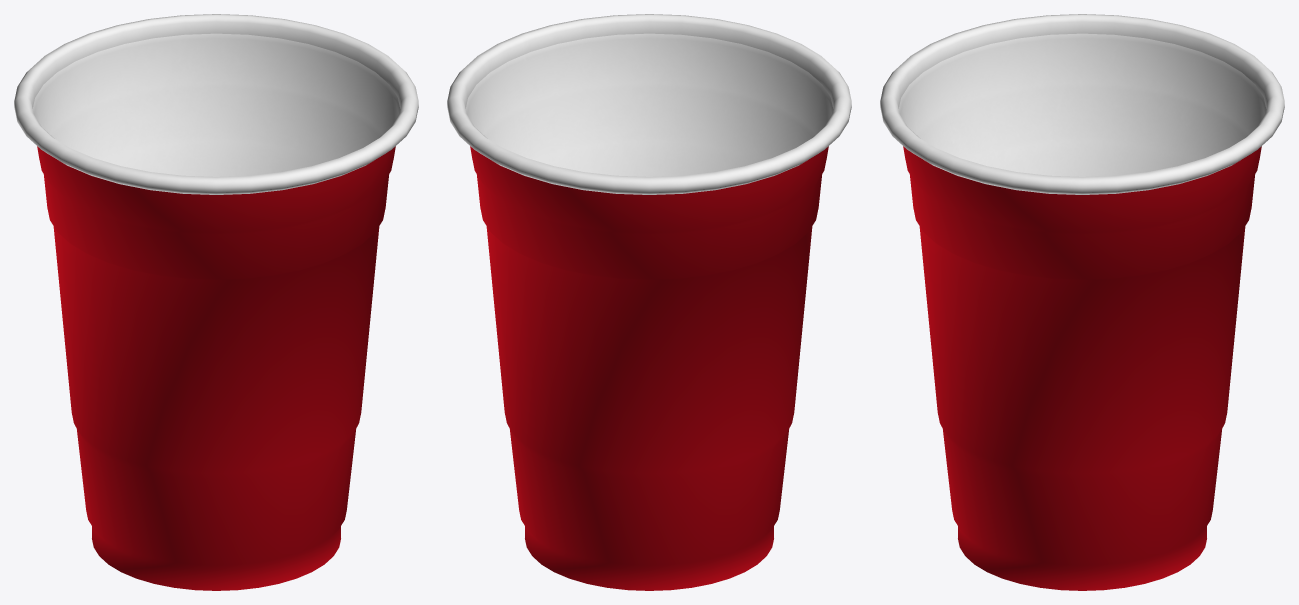
The model's file is RedCup.fbx.
3 renders of one model, left to right at view 1: azimuth 30°, elevation 25°; view 2: azimuth 150°, elevation 25°; view 3: azimuth 270°, elevation 25°, orthographic.
Parts seen in each view (by area): view 1: RedCup; view 2: RedCup; view 3: RedCup.
Part boxes in pixels (box(x1,y1,x2,y2)): RedCup: box(14, 14, 418, 590); RedCup: box(447, 14, 851, 590); RedCup: box(880, 14, 1284, 590).
Size of the model in its own units: 0.1002 by 0.1208 by 0.1002.
1 material, 1 textured.
